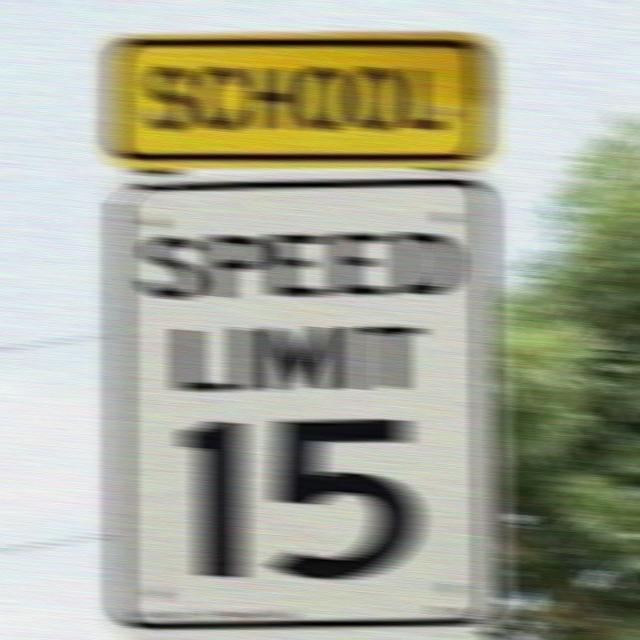speedLimit15: (99, 175, 503, 633)
